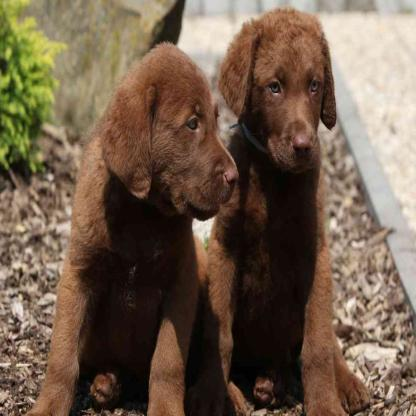Chesapeake Bay Retriever: (52, 27, 246, 416), (220, 1, 369, 416)
